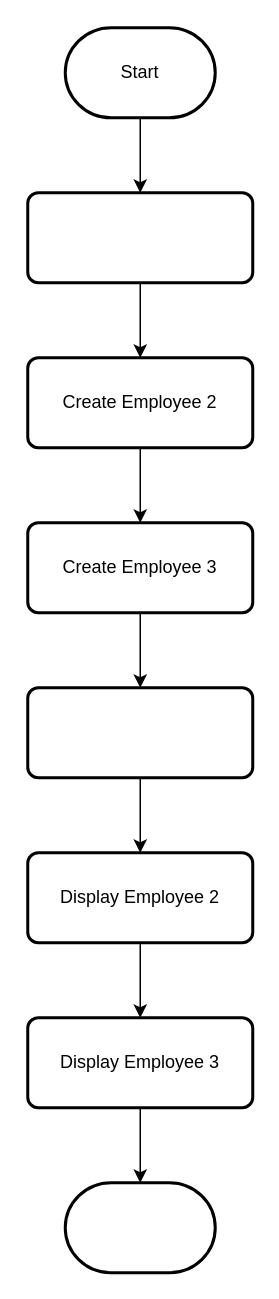
This 279x1299 diagram has some shape labels left out. The shapes that lost their labels are listed below. From the top down, each one's centre as x and y in pixels, then its label:
the point at 140,237: Create Employee 1
the point at 140,732: Display Employee 1
the point at 139,1227: End
